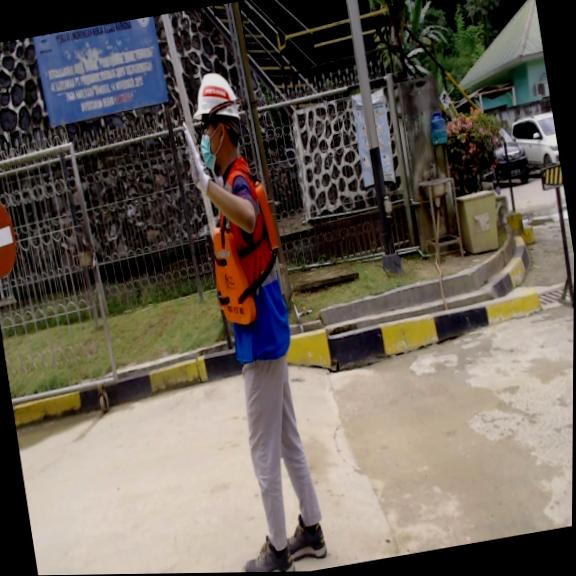safety_vest: (199, 174, 292, 329)
